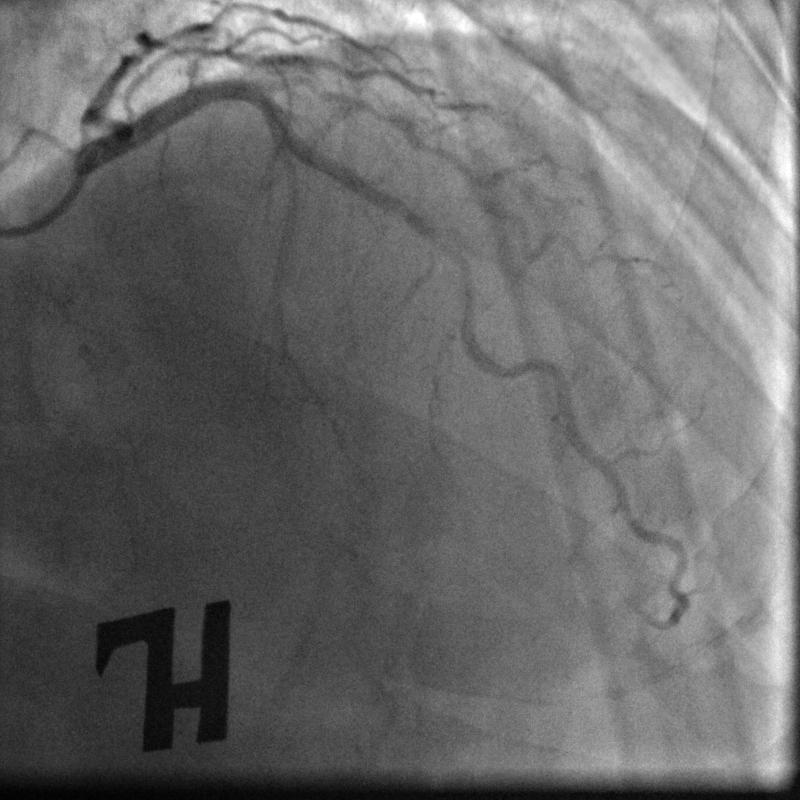Stenosis: (434, 235, 478, 317)
